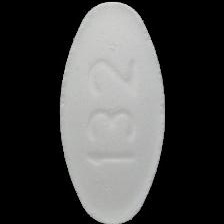69189-0188: (0, 0, 224, 224)
